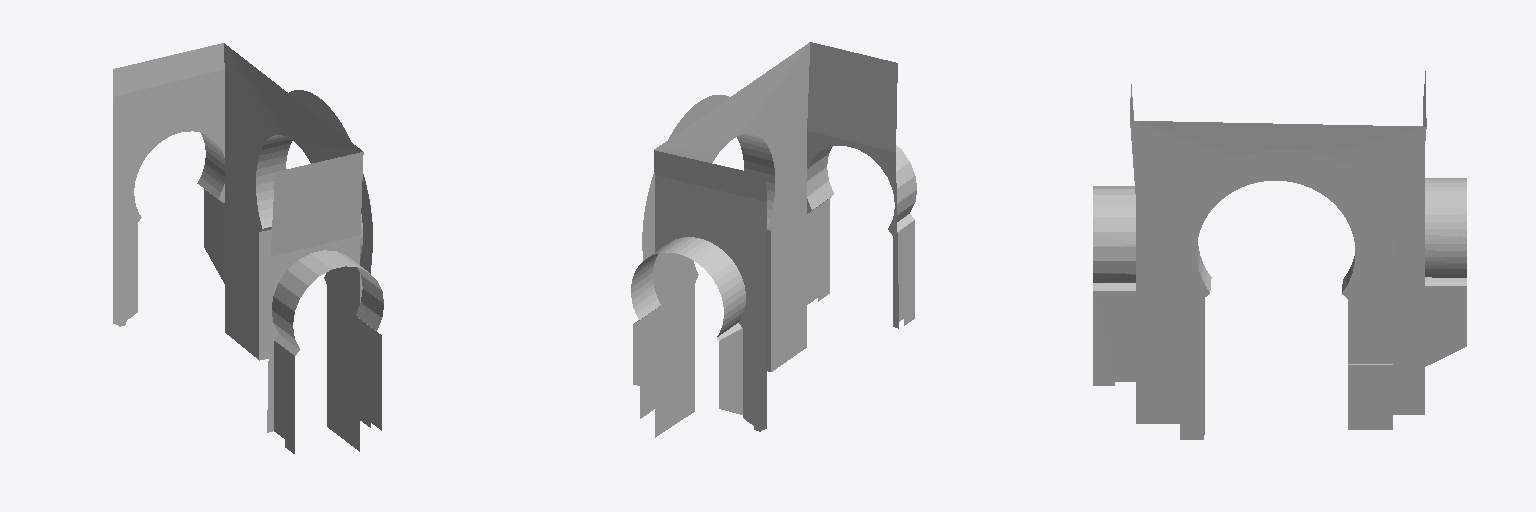
File: 6_Pedret_XII.obj
3 views of the same model, side by side, from view 1: azimuth 30°, elevation 25°; view 2: azimuth 150°, elevation 25°; view 3: azimuth 270°, elevation 25° (orthographic).
Visible parts, largest first — view 1: PEDRET_XII-baked-nau; view 2: PEDRET_XII-baked-nau; view 3: PEDRET_XII-baked-nau.
Part boxes in pixels (x1,y1,x2,y2): PEDRET_XII-baked-nau: (113, 43, 383, 453); PEDRET_XII-baked-nau: (631, 42, 916, 437); PEDRET_XII-baked-nau: (1093, 71, 1466, 439).
Size of the model in its own units: 3.07 by 6.27 by 7.01.